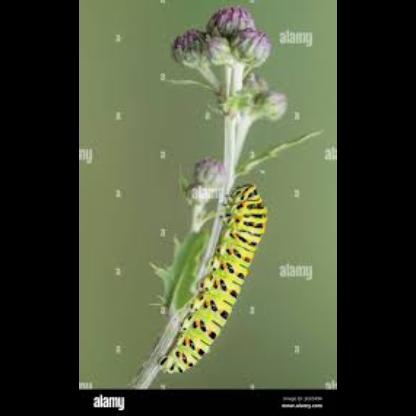oruga: (152, 180, 276, 380)
